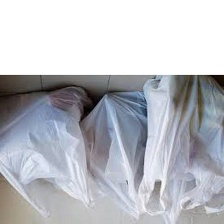plastic_bag: (76, 90, 190, 224), (0, 82, 100, 221), (135, 74, 224, 220)
